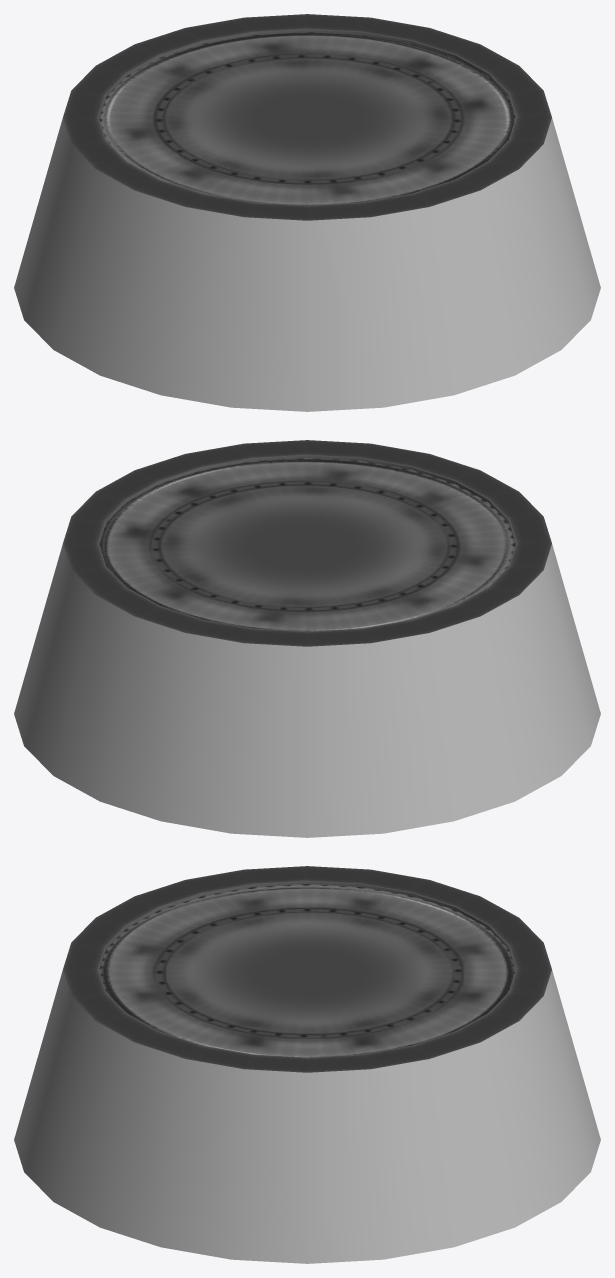
The model's file is thorVeryShortAdapter.dae.
3 renders of one model, top to bottom at view 1: azimuth 30°, elevation 25°; view 2: azimuth 150°, elevation 25°; view 3: azimuth 270°, elevation 25°, orthographic.
Parts seen in each view (by area): view 1: polySurface8, polySurface26, polySurface9; view 2: polySurface8, polySurface26, polySurface9; view 3: polySurface8, polySurface26, polySurface9.
Part boxes in pixels (x1=…): polySurface8: x1=14, y1=118, x2=600, y2=411; polySurface26: x1=99, y1=32, x2=515, y2=205; polySurface9: x1=63, y1=14, x2=551, y2=220; polySurface8: x1=14, y1=544, x2=600, y2=837; polySurface26: x1=99, y1=458, x2=515, y2=631; polySurface9: x1=63, y1=440, x2=551, y2=646; polySurface8: x1=14, y1=970, x2=600, y2=1263; polySurface26: x1=99, y1=884, x2=515, y2=1057; polySurface9: x1=63, y1=866, x2=551, y2=1072.
Size of the model in its own units: 1.5 by 0.4807 by 1.5.
